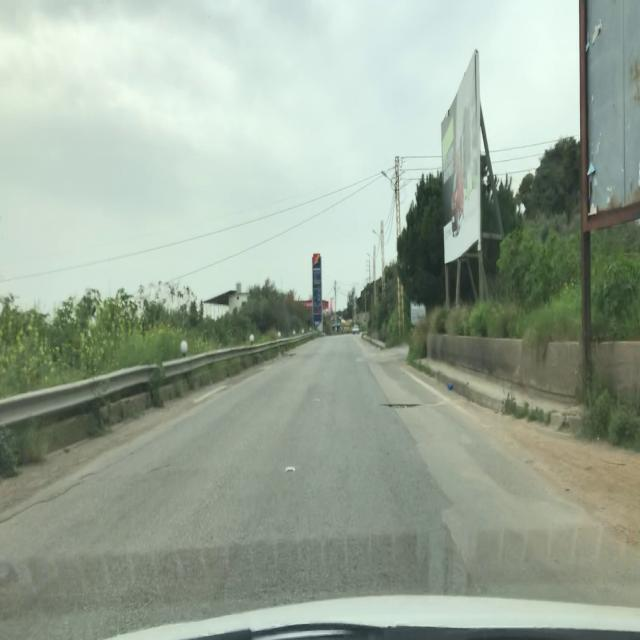Buraco: (379, 402, 423, 411)
